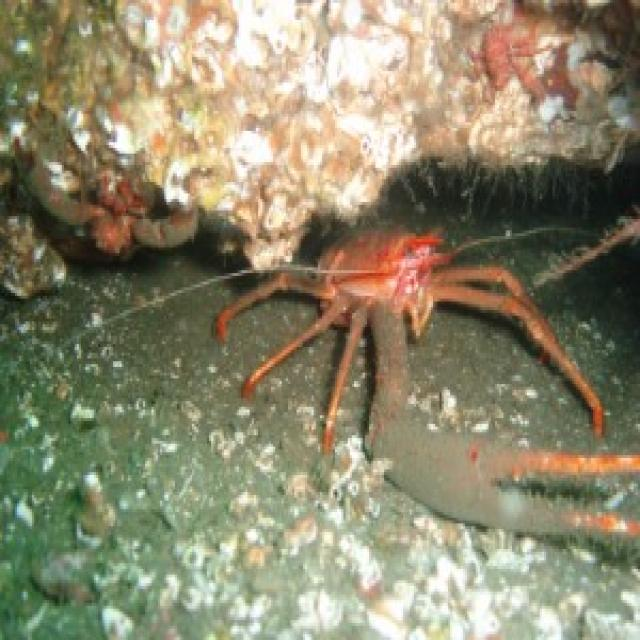lobsters: (194, 116, 639, 544)
